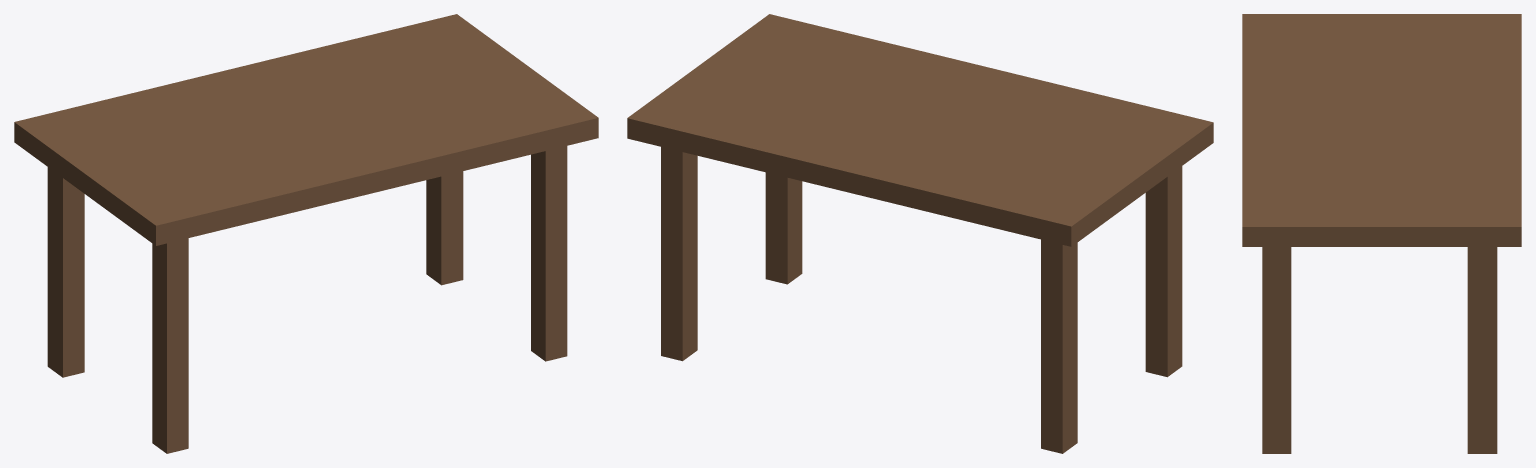
File: Mesa.fbx
3 views of the same model, side by side, from view 1: azimuth 30°, elevation 25°; view 2: azimuth 150°, elevation 25°; view 3: azimuth 270°, elevation 25° (orthographic).
Parts seen in each view (by area): view 1: Cube; view 2: Cube; view 3: Cube.
Part boxes in pixels (<box>): Cube: <box>14,14,598,453</box>; Cube: <box>627,14,1213,453</box>; Cube: <box>1242,14,1521,453</box>.
Bounding box in the file's own units: 6 × 3.12 × 3.33.
